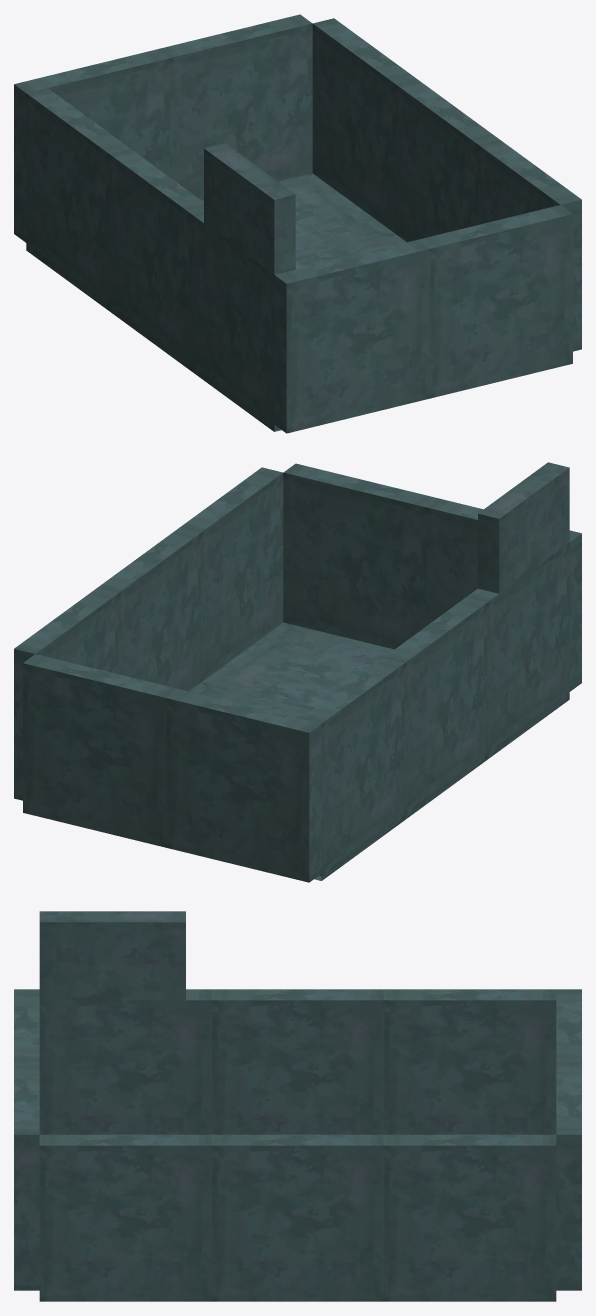
File: map_asset - Copie.fbx
3 views of the same model, one above another, from view 1: azimuth 30°, elevation 25°; view 2: azimuth 150°, elevation 25°; view 3: azimuth 270°, elevation 25° (orthographic). The views are drawn at different scales.
Visible parts, largest first — view 1: wall.009, wall.008, wall.004, wall.005, wall.002, wall.001, wall_short, wall.006, wall, wall.003, wall.007, tile.005 (+4 smaller); view 2: wall.003, wall.004, wall.008, wall.002, wall.007, wall.001, wall, wall.006, tile.003, wall_short, wall.009, wall.005 (+4 smaller); view 3: wall.005, wall.007, wall.006, wall.002, wall.001, wall, wall_short, wall.004, wall.008, wall.003, wall.009.
Part boxes in pixels (<box>): wall.009: <box>274,240,429,433</box>; wall.008: <box>417,205,572,398</box>; wall.004: <box>157,14,312,200</box>; wall.005: <box>312,18,416,233</box>; wall.002: <box>26,88,129,303</box>; wall.001: <box>109,148,203,363</box>; wall_short: <box>204,143,295,347</box>; wall.006: <box>395,78,498,242</box>; wall: <box>191,211,274,423</box>; wall.003: <box>14,49,169,242</box>; wall.007: <box>478,139,581,351</box>; tile.005: <box>201,173,394,257</box>; wall.003: <box>166,689,321,882</box>; wall.004: <box>23,654,177,847</box>; wall.008: <box>283,463,438,649</box>; wall.002: <box>300,658,404,873</box>; wall.007: <box>179,467,283,682</box>; wall.001: <box>383,597,486,812</box>; wall: <box>466,542,569,752</box>; wall.006: <box>97,528,200,691</box>; tile.003: <box>201,622,394,709</box>; wall_short: <box>478,462,569,593</box>; wall.009: <box>426,498,581,691</box>; wall.005: <box>14,588,117,800</box>; wall.005: <box>384,1134,556,1301</box>; wall.007: <box>39,1134,211,1301</box>; wall.006: <box>212,1134,383,1301</box>; wall.002: <box>384,989,556,1134</box>; wall.001: <box>212,989,383,1134</box>; wall: <box>39,989,211,1134</box>; wall_short: <box>39,911,185,1078</box>; wall.004: <box>556,1062,581,1290</box>; wall.008: <box>14,1062,39,1290</box>; wall.003: <box>556,989,581,1061</box>; wall.009: <box>14,989,39,1061</box>.
Size of the model in its own units: 860 by 620 by 1320.
